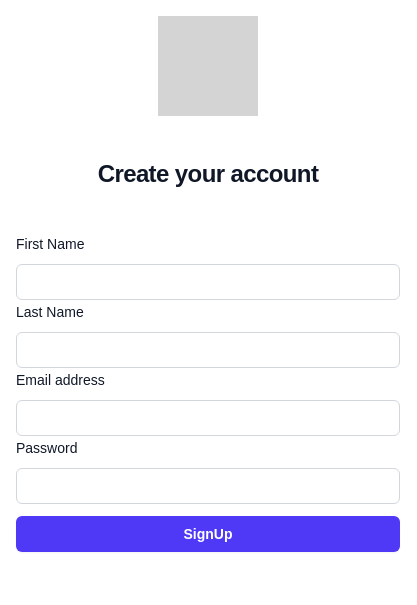
SignUp Form › shows error on existing credentials
Type "ranjan" into the field with test id "firstName" at [208, 282], box [16,264,400,300]
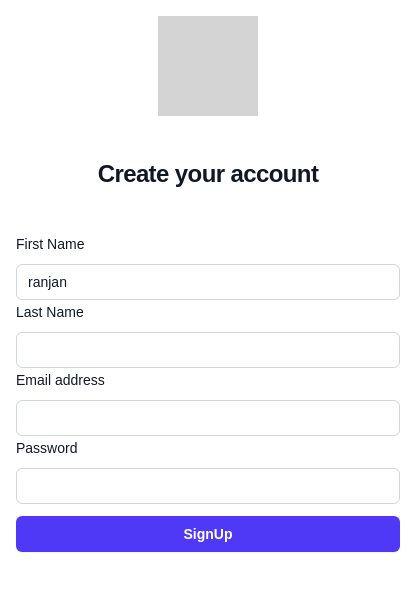
Type "thakur" into the field with test id "lastName" at [208, 350], box [16,332,400,368]
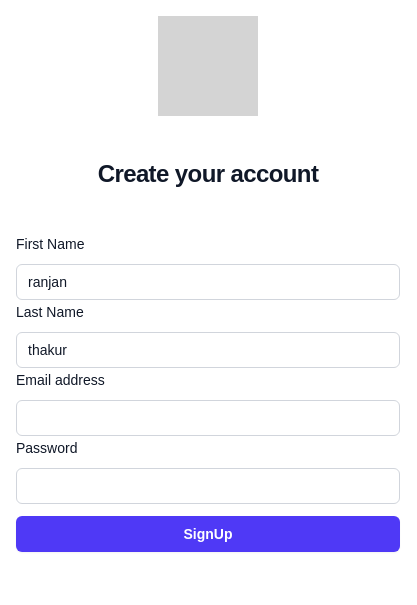
Type "ankur@gmail.com" into the field with test id "emailId" at [208, 418], box [16,400,400,436]
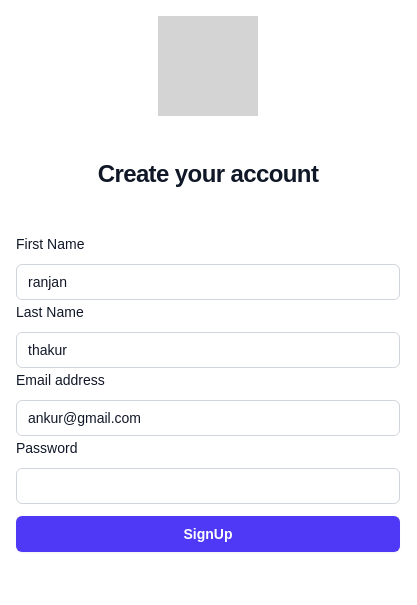
Type "Ranjan@123" into the password field with test id "password" at [208, 486], box [16,468,400,504]
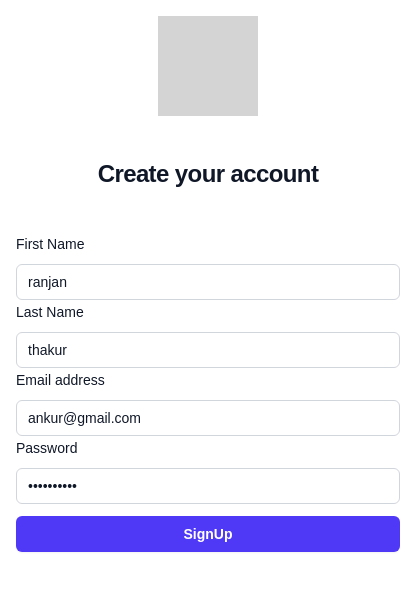
Click the button "SignUp" at [208, 534], box [16,516,400,552]
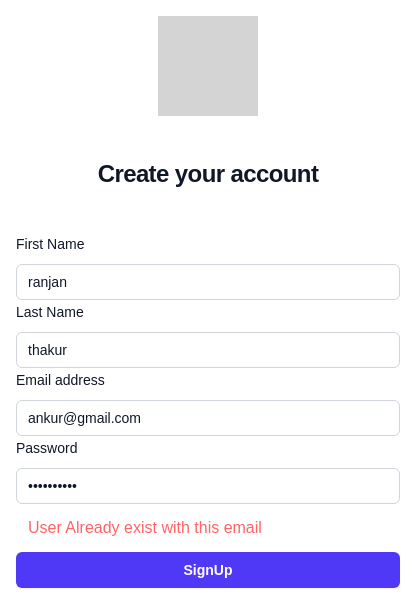
Check: the text "User Already exist with this email" is shown, box [28,519,262,536]
